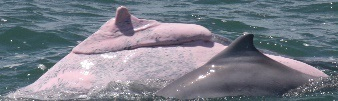fin: (157, 32, 327, 97)
